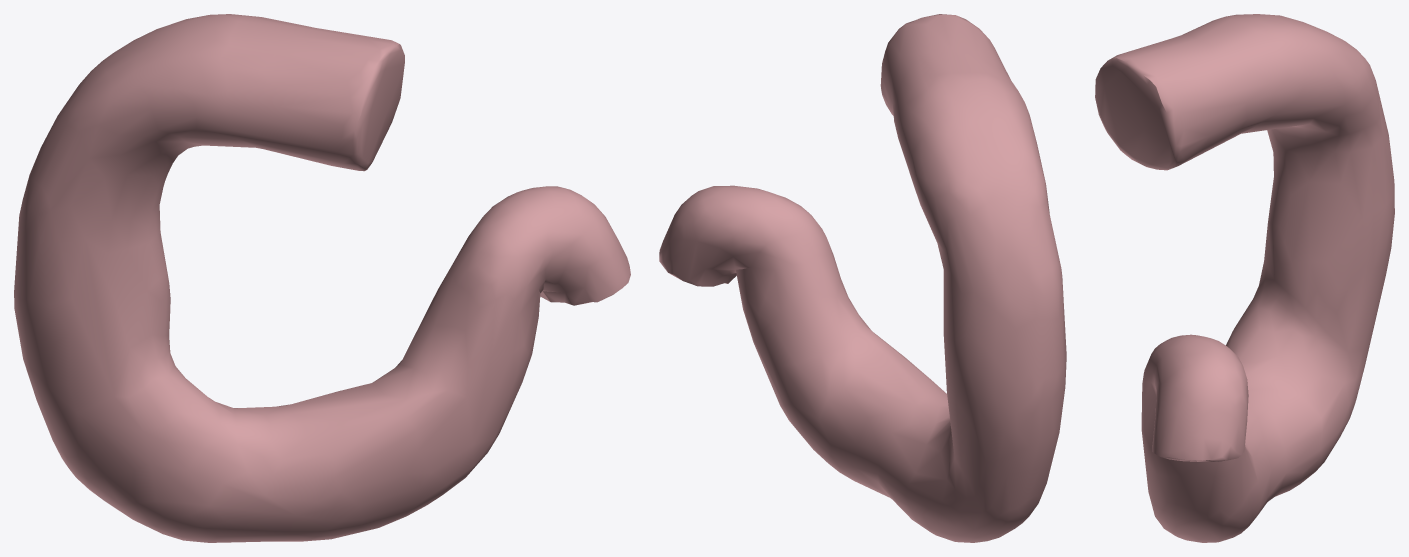
File: fma7206_fj2573.glb
3 renders of one model, left to right at view 1: azimuth 30°, elevation 25°; view 2: azimuth 150°, elevation 25°; view 3: azimuth 270°, elevation 25°, orthographic. The views are drawn at different scales.
Visible parts, largest first — view 1: FMA7206_FJ2573; view 2: FMA7206_FJ2573; view 3: FMA7206_FJ2573.
Part boxes in pixels (left/top/right/bottom): FMA7206_FJ2573: left=14, top=14, right=630, bottom=542; FMA7206_FJ2573: left=659, top=14, right=1066, bottom=542; FMA7206_FJ2573: left=1095, top=14, right=1394, bottom=542.
Size of the model in its own units: 0.098 by 0.0915 by 0.053.
